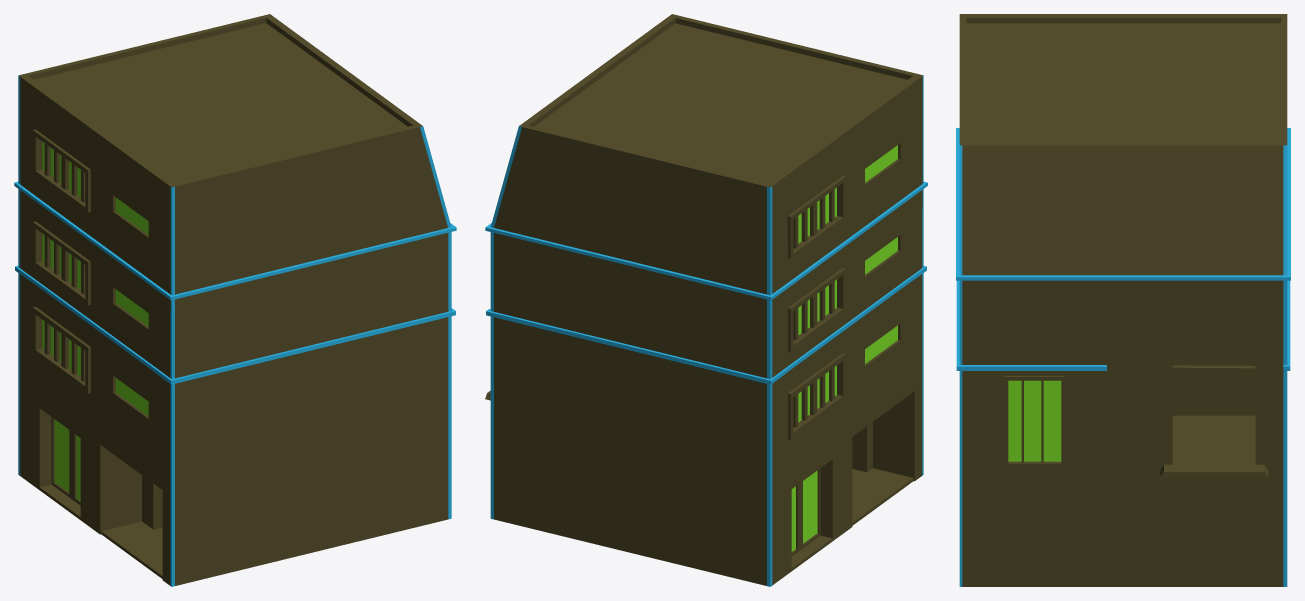
The model's file is SM_Buildings_Special_01 1.fbx.
The picture shows the model from 3 angles, left to right: view 1: azimuth 30°, elevation 25°; view 2: azimuth 150°, elevation 25°; view 3: azimuth 270°, elevation 25°; orthographic projection. The views are drawn at different scales.
Visible parts, largest first — view 1: SM_Buildings_Special_01; view 2: SM_Buildings_Special_01; view 3: SM_Buildings_Special_01.
Part boxes in pixels (x1,y1,x2,y2): SM_Buildings_Special_01: (14,14,456,586); SM_Buildings_Special_01: (485,14,927,586); SM_Buildings_Special_01: (956,14,1290,586).
Bounding box in the file's own units: 3076 × 3950 × 2808.
